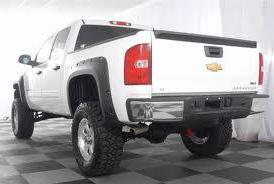Car: (1, 14, 274, 183)
